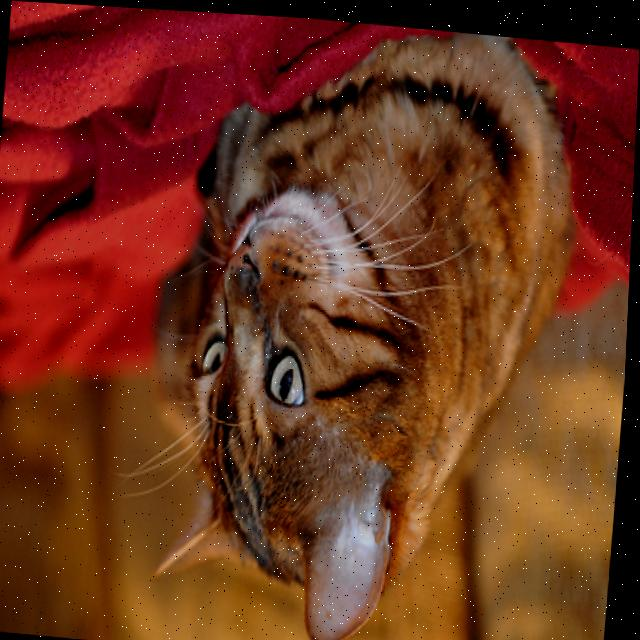Bengal: (130, 7, 595, 640)
